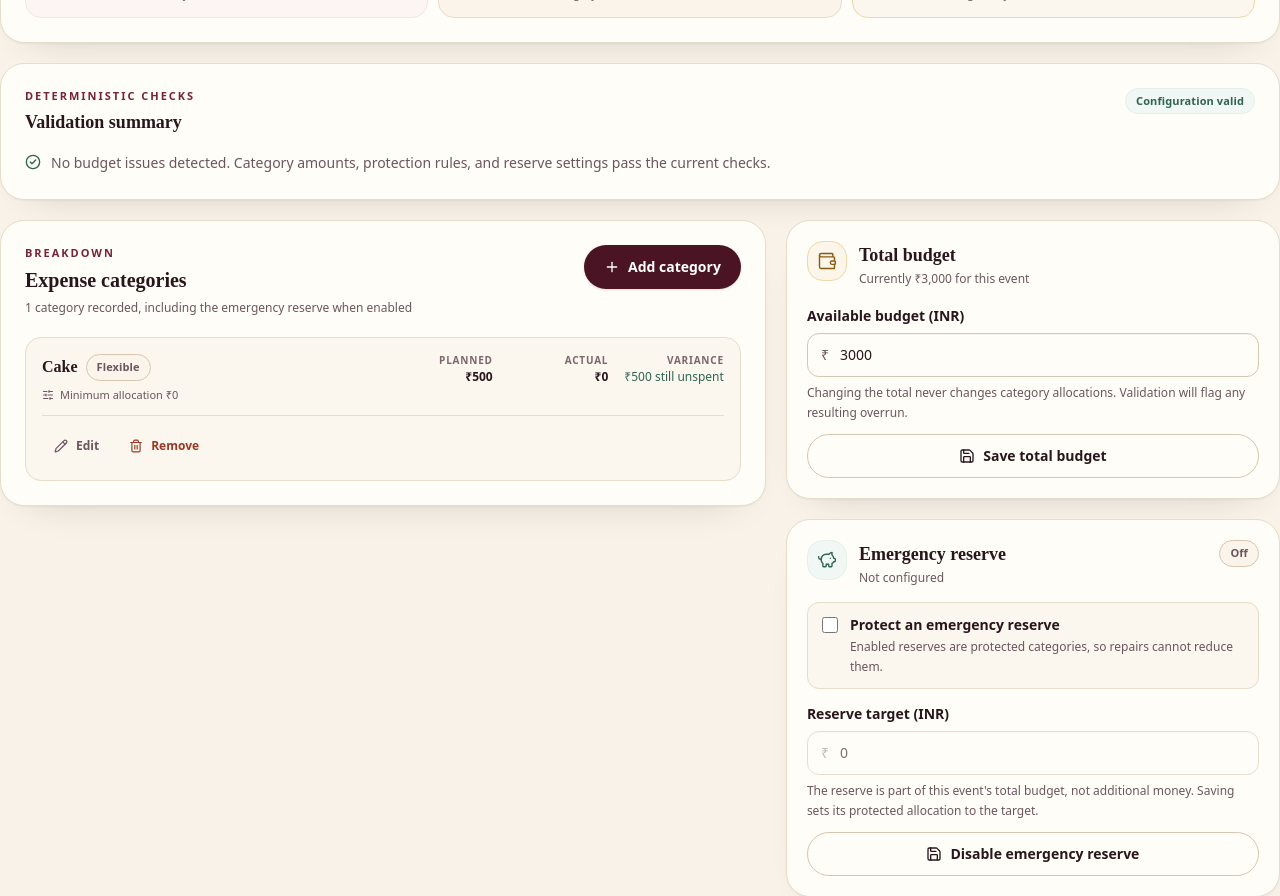
Test: BudgetPlannerPage › requires confirmation before removing a category
The width and height of the screenshot is (1280, 896).
(page scrolled)
What coordinates should you click on to do the following:
click the button with aria-label "Remove Cake"
I would click on:
 (164, 446)
Its box is [117,428,211,464].
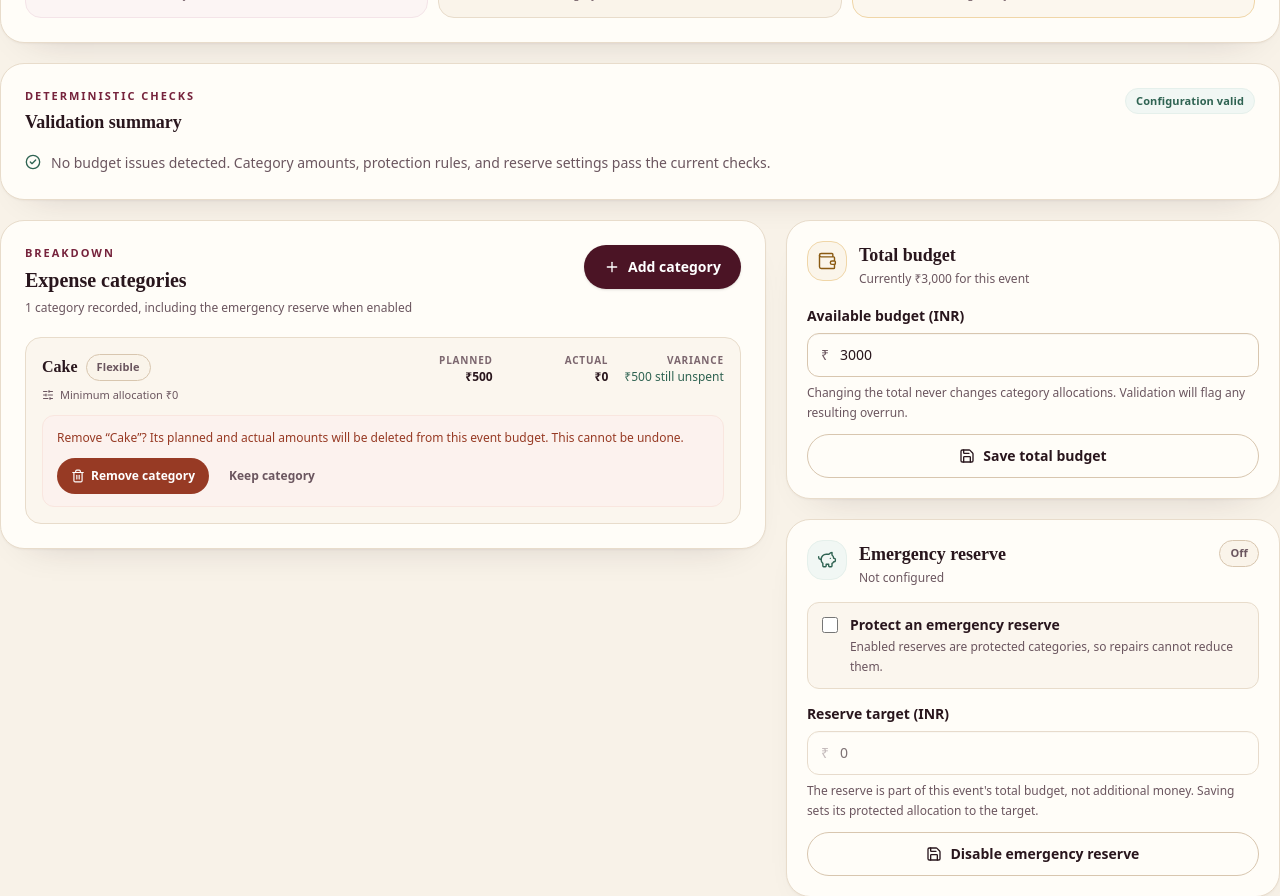
Expected: the heading "Cake" is shown, [42,355,78,379]
What coordinates should you click on to do the following:
click the button "Remove category"
I would click on:
 (133, 476)
Its box is [57,458,209,494].
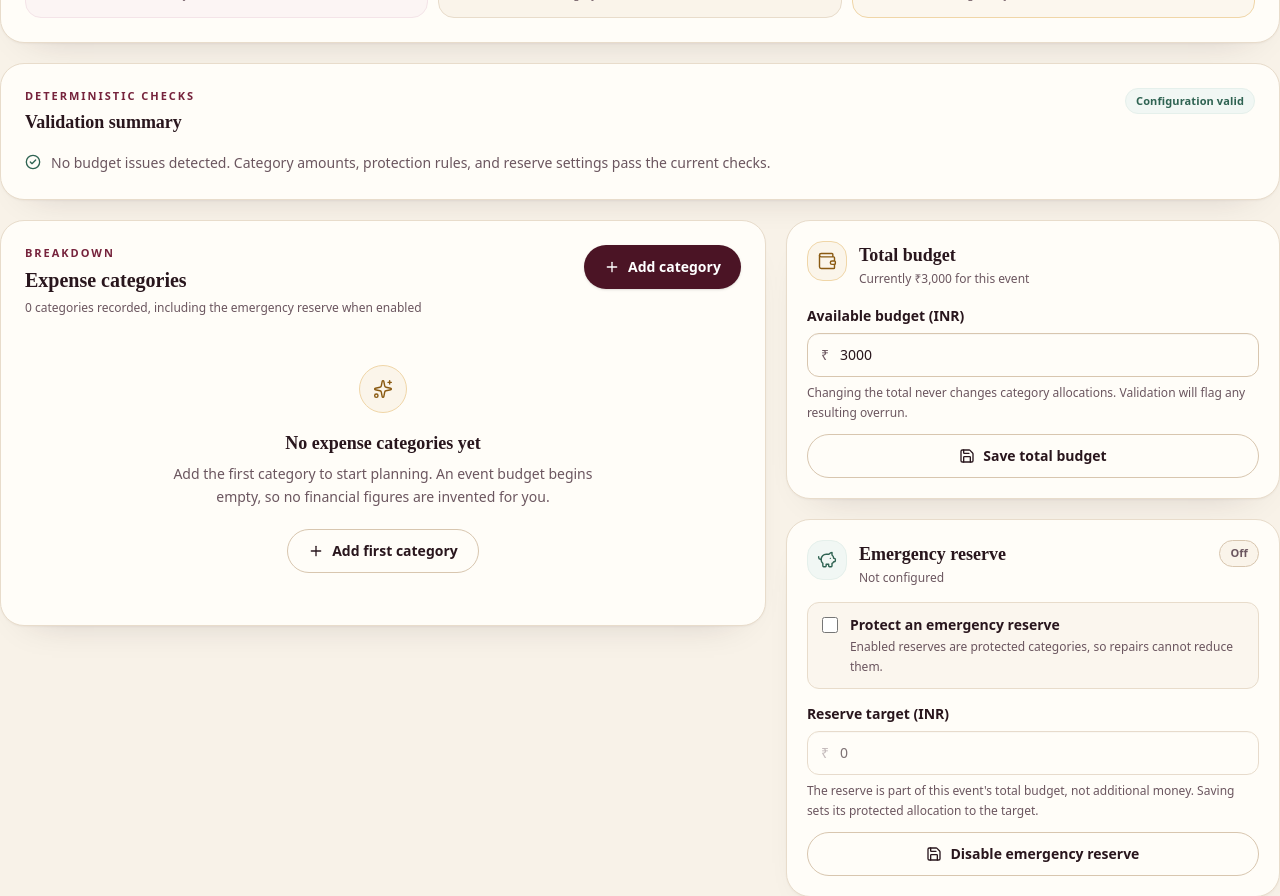
Expected: the heading "Cake" is gone
Expected: the heading "No expense categories yet" is shown, [285,429,481,457]
